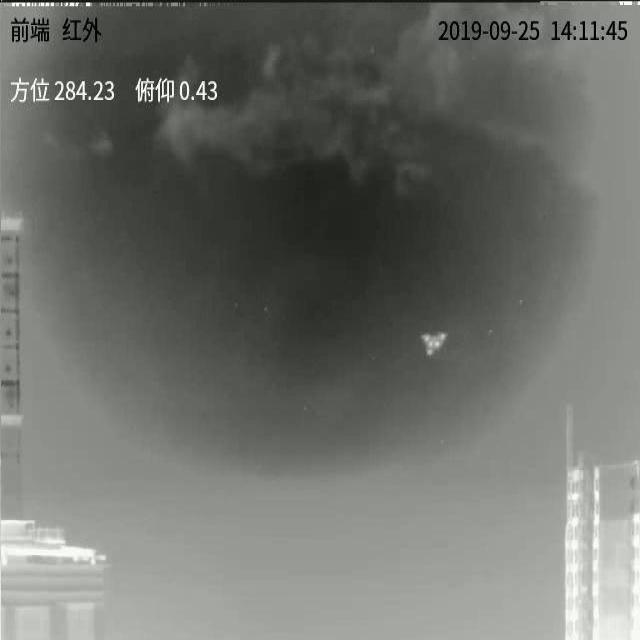drone: (420, 332, 448, 357)
